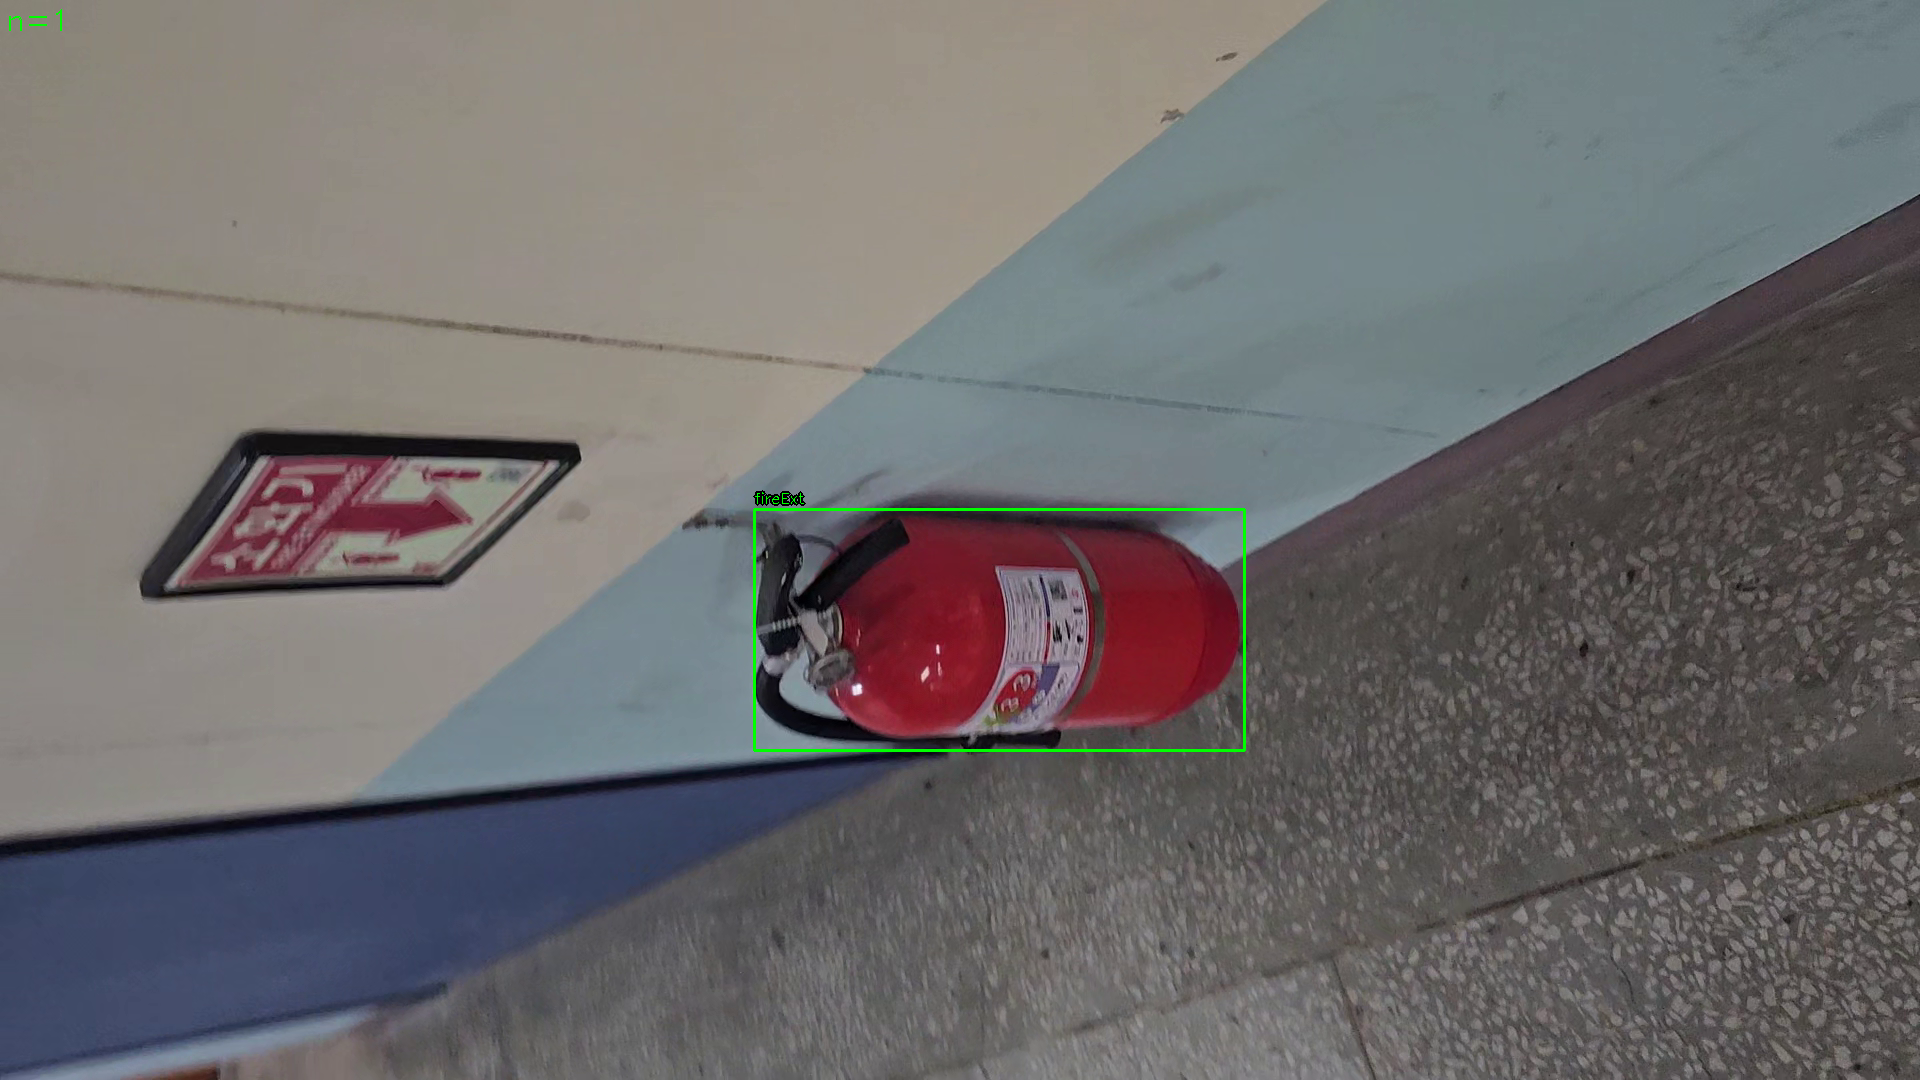lane: (754, 509, 1245, 752)
